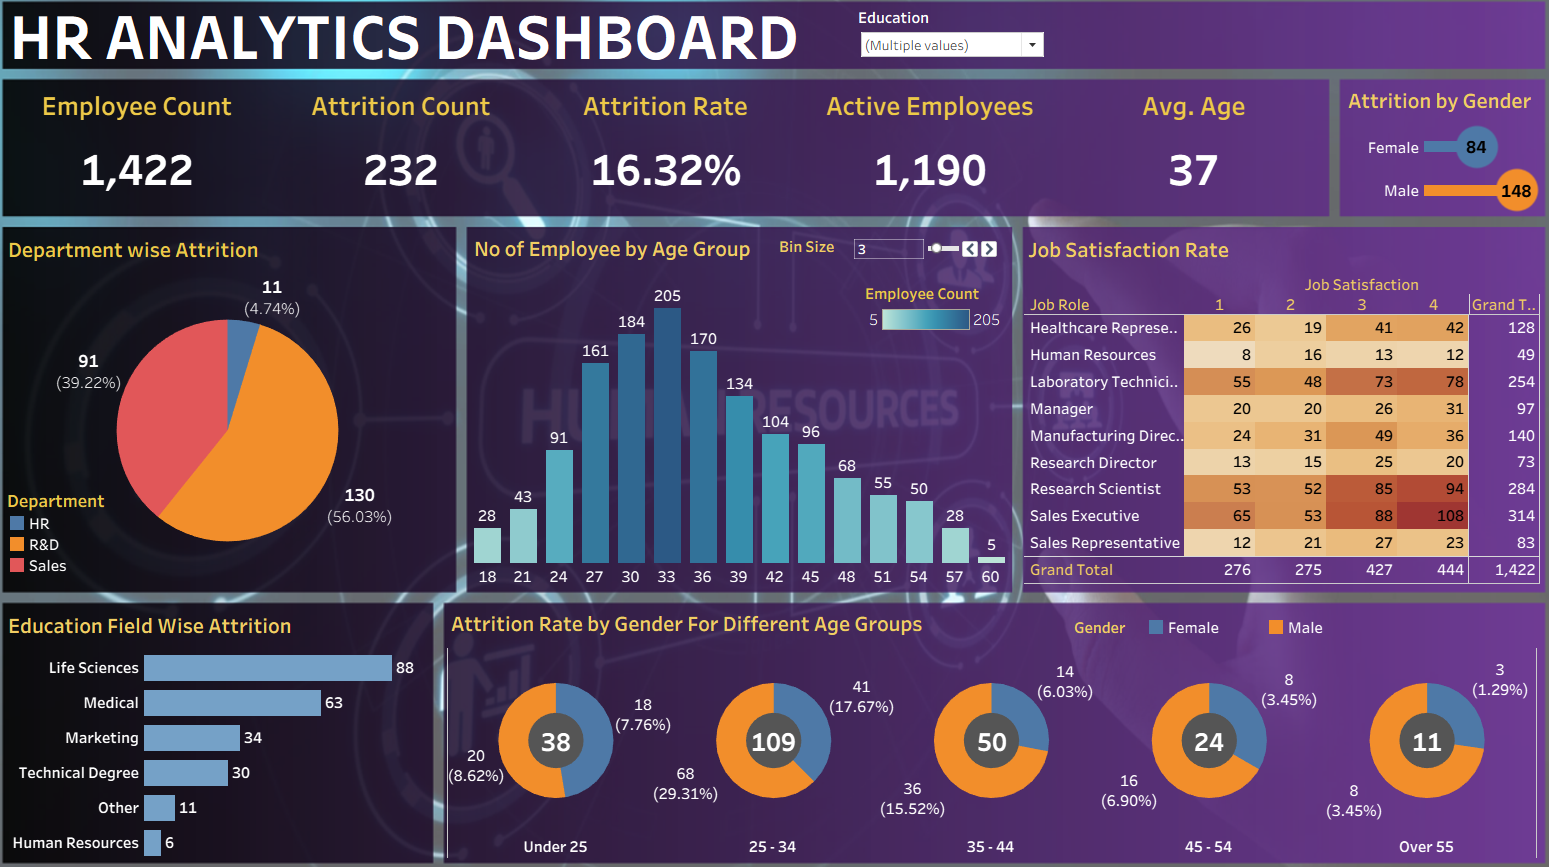

What the dashboard file says about the page in this screenshot:
{"tool":"tableau","page":{"name":"HR Analytics Dashboard","canvas":[1580,900],"ordinal":0},"visuals":[{"type":"image","param":"C:/Users/santo/Downloads/HR background.pptx (1).png","box":[8,8,1564,884]},{"type":"text","box":[22,23,825,56]},{"type":"filter","title":"No of Employee by Age Group","param":"[federated.1e3yv7b0dv68rv1f0nlsp12ley6j].[none:Education:nk]","box":[874,24,189,56]},{"type":"worksheet","title":"KPI","mark":"Automatic","box":[21,99,1321,131]},{"type":"worksheet","title":"Attrition by Gender","mark":"Automatic","rows":["Gender"],"cols":["Calculation_3607101859904925697","Calculation_3607101859904925697"],"box":[1360,99,199,130]},{"type":"worksheet","title":"No of Employee by Age Group","mark":"Automatic","rows":["Employee Count"],"cols":["Age (bin)"],"box":[486,247,539,358]},{"type":"worksheet","title":"Department wise Attrition","mark":"Pie","box":[20,248,447,356]},{"type":"worksheet","title":"Job Satisfaction Rate","mark":"Square","rows":["Job Role"],"cols":["Job Satisfaction"],"box":[1040,248,517,353]},{"type":"parameter","param":"[Parameters].[Parameter 1]","box":[795,253,221,28]},{"type":"legend","title":"No of Employee by Age Group","param":"[federated.1e3yv7b0dv68rv1f0nlsp12ley6j].[sum:Employee Count:qk]","box":[881,300,140,55]},{"type":"legend","title":"Department wise Attrition","param":"[federated.1e3yv7b0dv68rv1f0nlsp12ley6j].[none:Department:nk]","box":[23,505,102,96]},{"type":"worksheet","title":"Attrition Rate by Gender For Different Age Groups","mark":"Pie","rows":["Calculation_3607101860485517318","Calculation_3607101860485517318"],"cols":["CF_age band"],"box":[463,622,1090,254]},{"type":"worksheet","title":"Education Field Wise Attrition","mark":"Automatic","rows":["Education Field"],"cols":["Calculation_3607101859904925697"],"box":[20,624,426,253]},{"type":"legend","title":"Attrition Rate by Gender For Different Age Groups","param":"[federated.1e3yv7b0dv68rv1f0nlsp12ley6j].[none:Gender:nk]","box":[1090,634,322,26]}]}

Visuals, with their boxes in screenshot pixels (x1, y1, x2, y2), scaled from the page's 1580x900 canvas onto the 1549x867 screenshot:
image: (8, 8, 1541, 859)
text: (22, 22, 830, 76)
"No of Employee by Age Group" filter: (857, 23, 1042, 77)
"KPI" worksheet: (21, 95, 1316, 222)
"Attrition by Gender" worksheet: (1333, 95, 1528, 221)
"No of Employee by Age Group" worksheet: (476, 238, 1005, 583)
"Department wise Attrition" worksheet (Pie marks): (20, 239, 458, 582)
"Job Satisfaction Rate" worksheet (Square marks): (1020, 239, 1526, 579)
parameter: (779, 244, 996, 271)
"No of Employee by Age Group" legend: (864, 289, 1001, 342)
"Department wise Attrition" legend: (23, 486, 123, 579)
"Attrition Rate by Gender For Different Age Groups" worksheet (Pie marks): (454, 599, 1523, 844)
"Education Field Wise Attrition" worksheet: (20, 601, 437, 845)
"Attrition Rate by Gender For Different Age Groups" legend: (1069, 611, 1384, 636)
